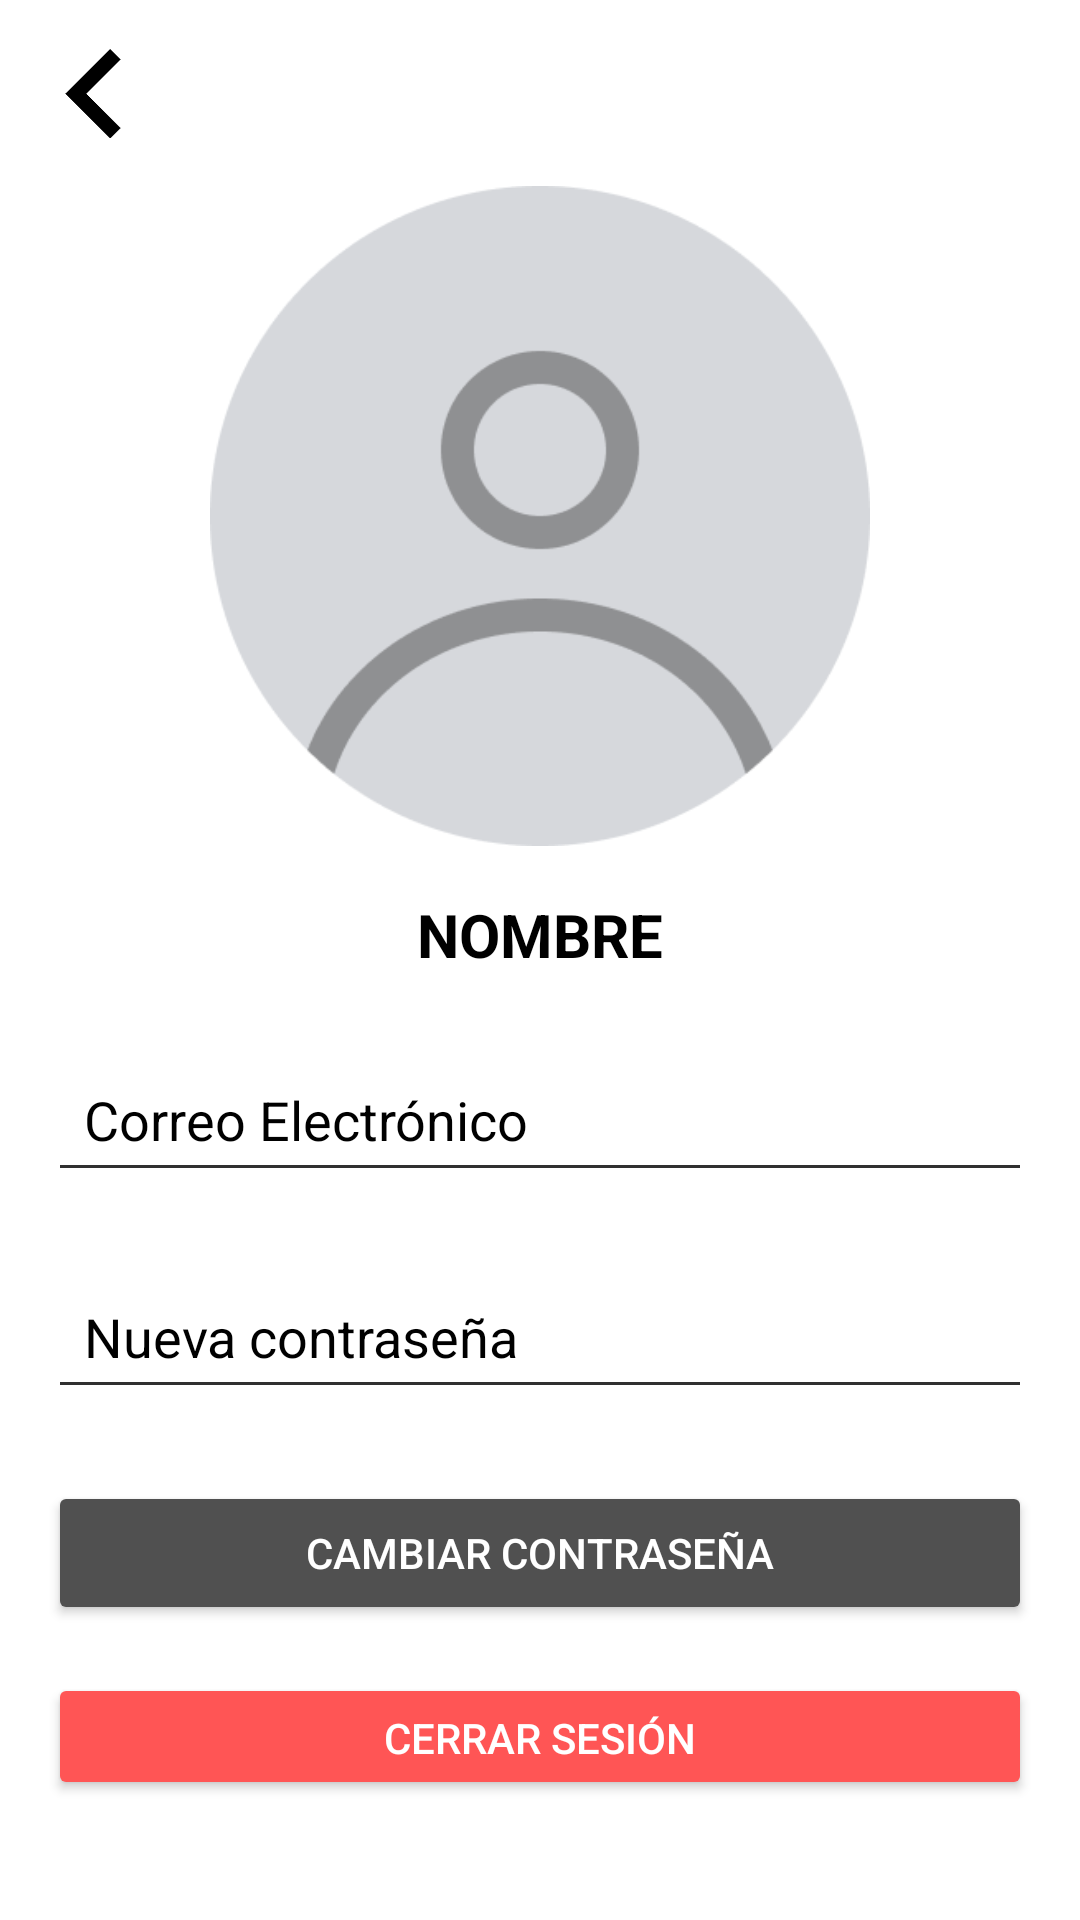

Where to tap for icons on this 1080 × 1920 app screen, as point (x, y):
retroceder: point (93, 93)
